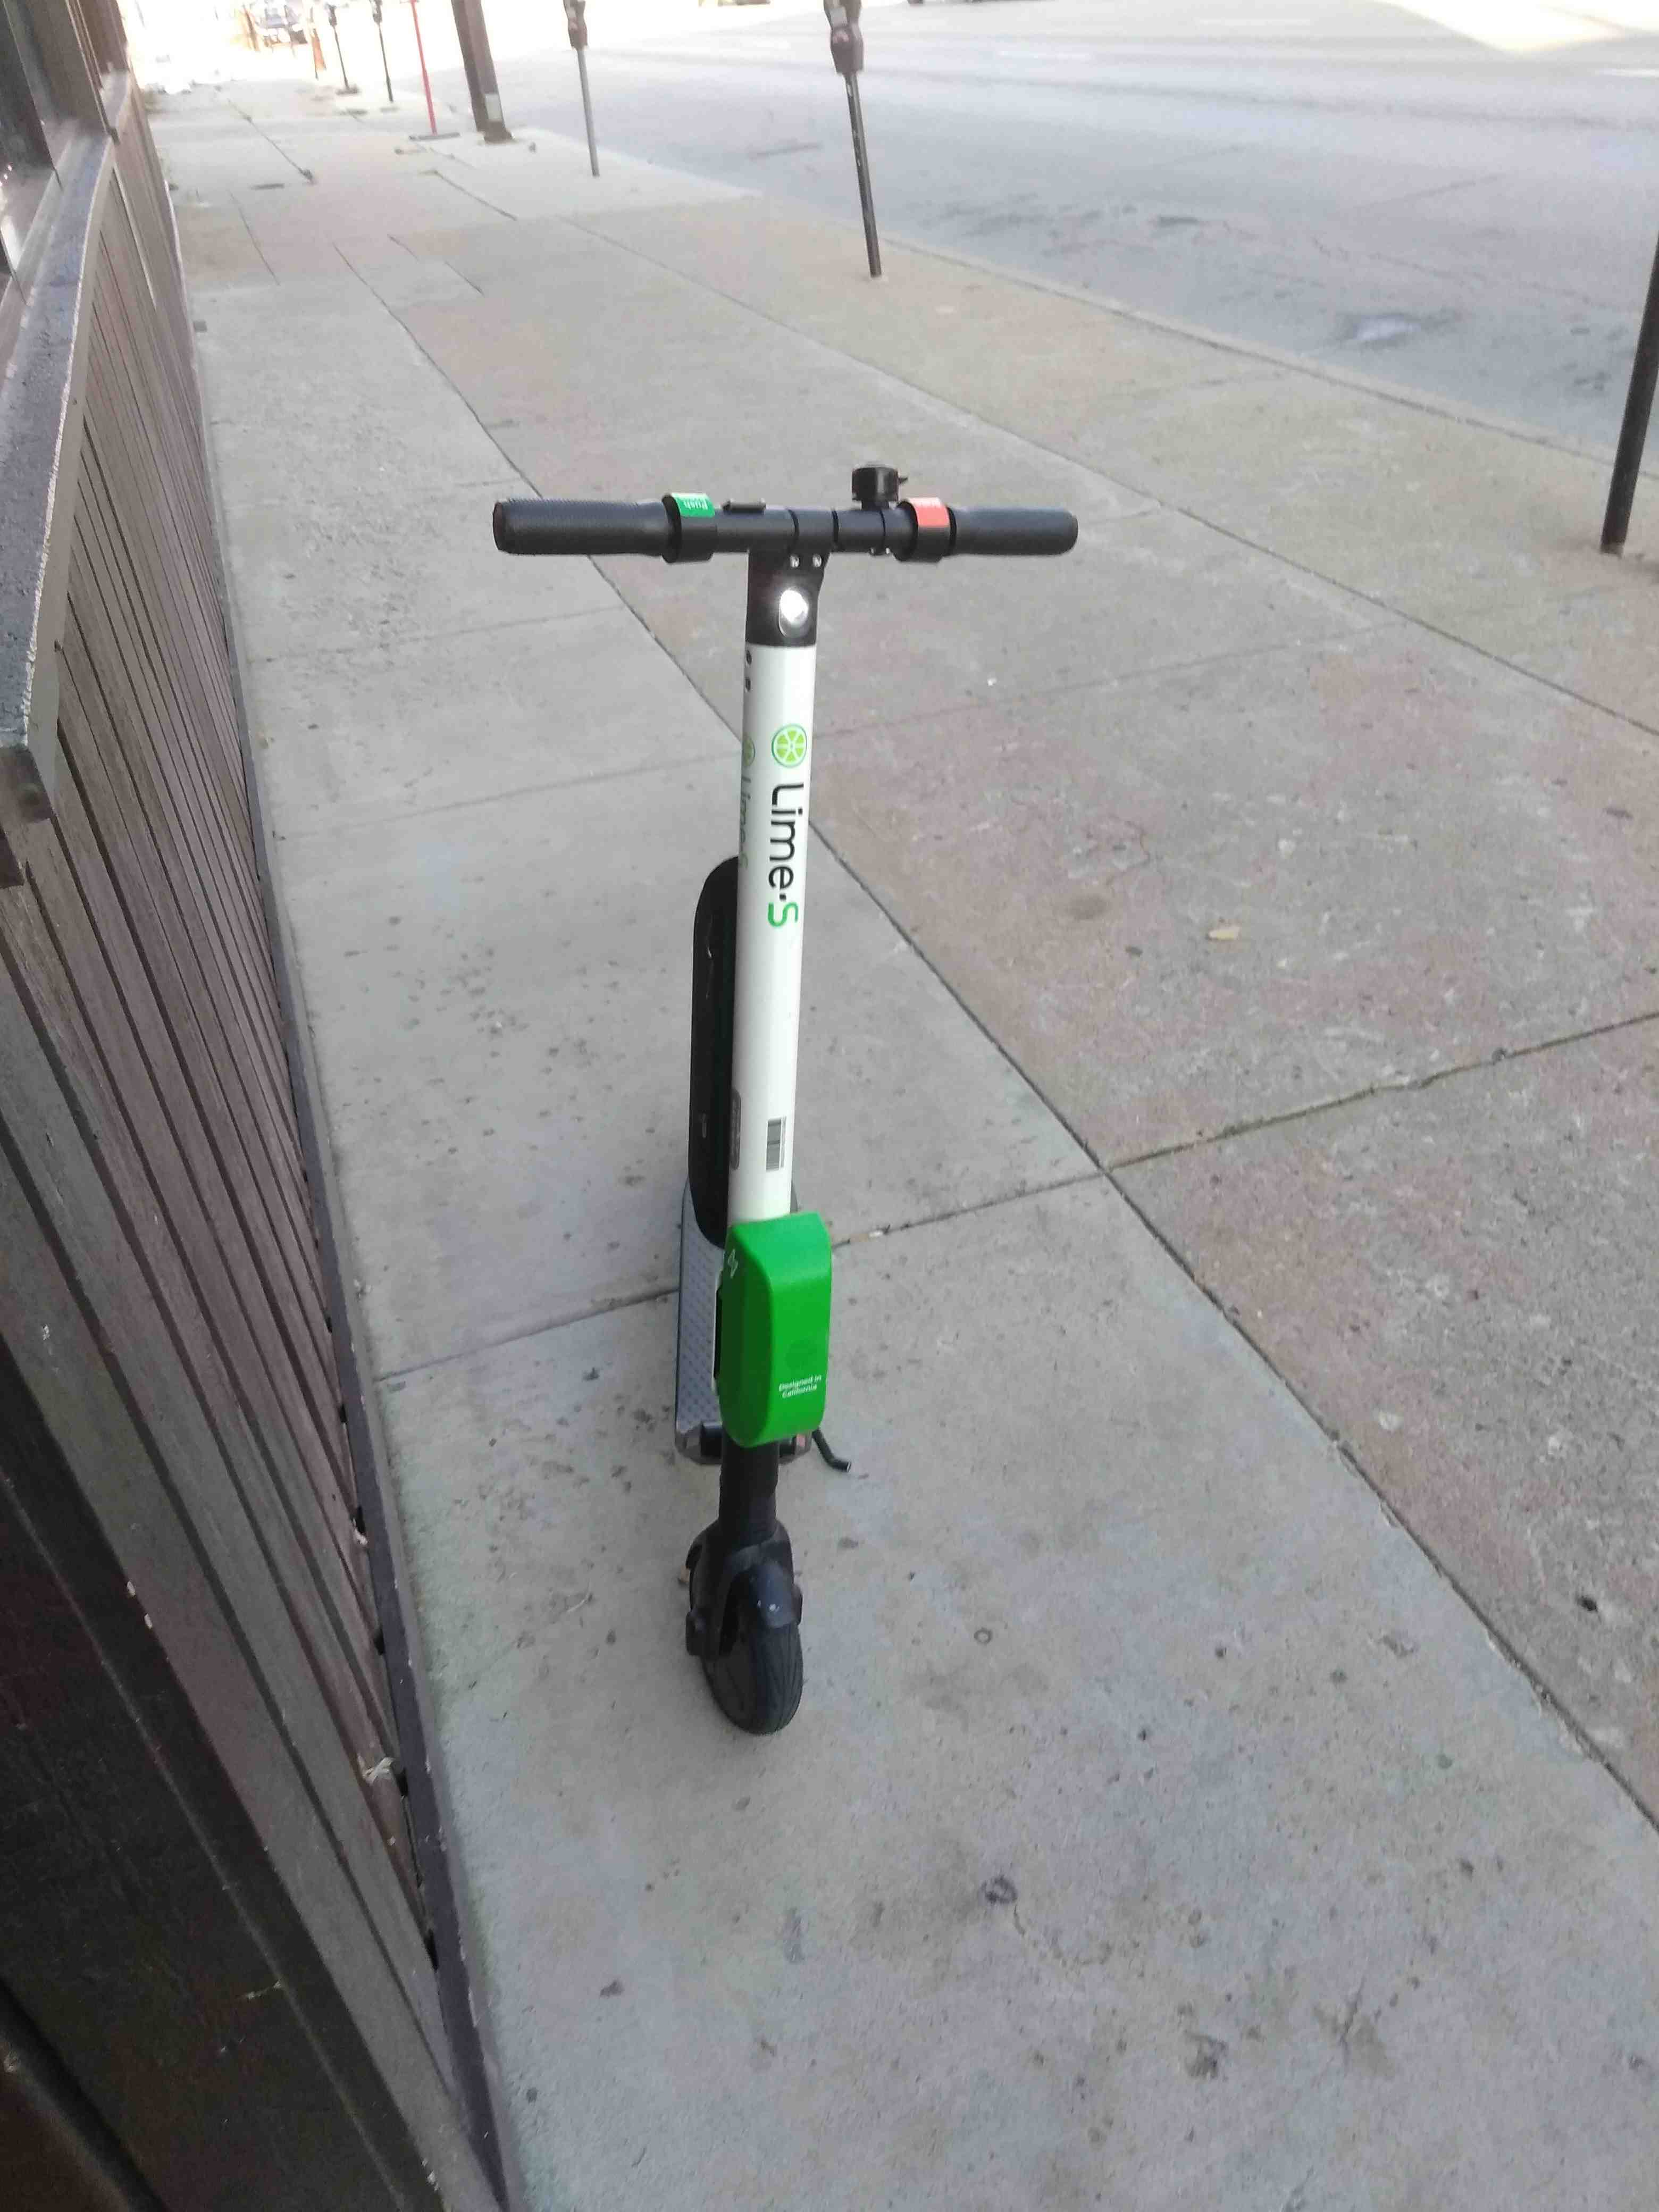scooter: (477, 435, 1091, 1771)
